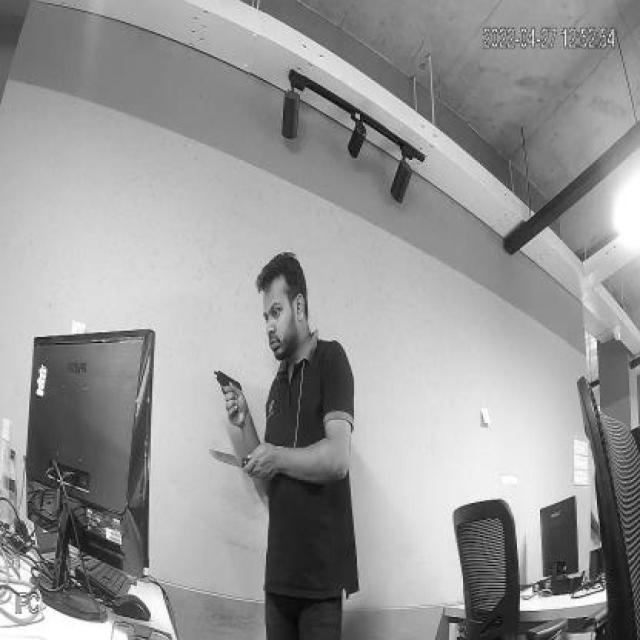weapon: (212, 369, 242, 422)
